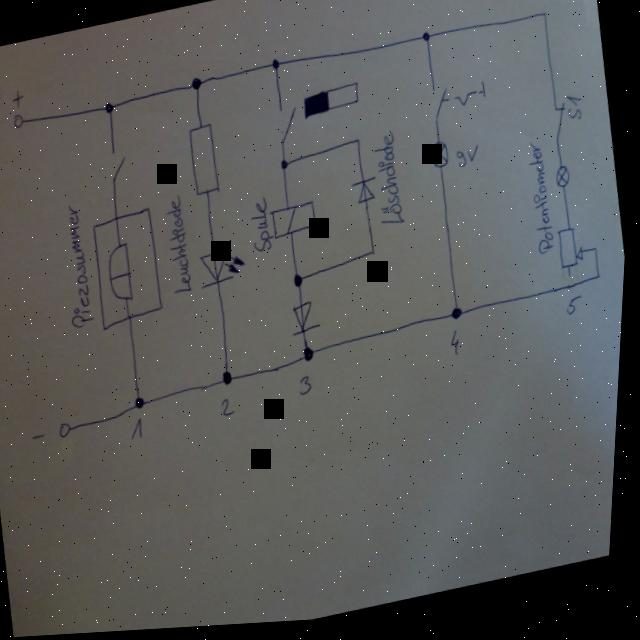diode: (198, 244, 253, 291), (292, 302, 324, 339), (350, 178, 382, 211)
inductor: (270, 201, 322, 244)
junction: (302, 344, 322, 368), (188, 75, 208, 96), (293, 274, 309, 293), (103, 100, 118, 117), (224, 372, 238, 390), (453, 309, 467, 327), (270, 59, 284, 75), (137, 396, 150, 412), (280, 161, 293, 176), (421, 33, 433, 49), (540, 15, 549, 26), (598, 279, 605, 289), (372, 251, 379, 261), (355, 140, 363, 148), (595, 252, 601, 259)
resistor: (184, 123, 226, 202), (558, 230, 589, 277)
switch: (426, 78, 495, 128), (273, 104, 305, 151), (106, 143, 135, 188), (548, 106, 575, 152)
terminal: (10, 108, 29, 132), (59, 420, 78, 441)
text: (54, 200, 104, 333), (521, 140, 563, 260), (368, 130, 411, 235), (161, 189, 201, 299), (248, 197, 277, 258), (0, 86, 16, 139), (456, 148, 484, 173), (564, 98, 586, 128), (131, 418, 152, 445), (567, 299, 589, 324), (449, 334, 468, 362), (300, 376, 318, 401), (222, 399, 241, 422)
